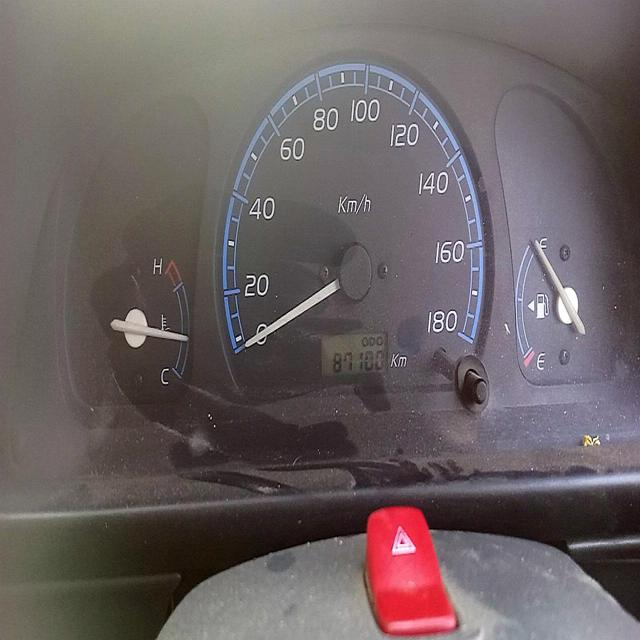odometer: (331, 347, 387, 376)
